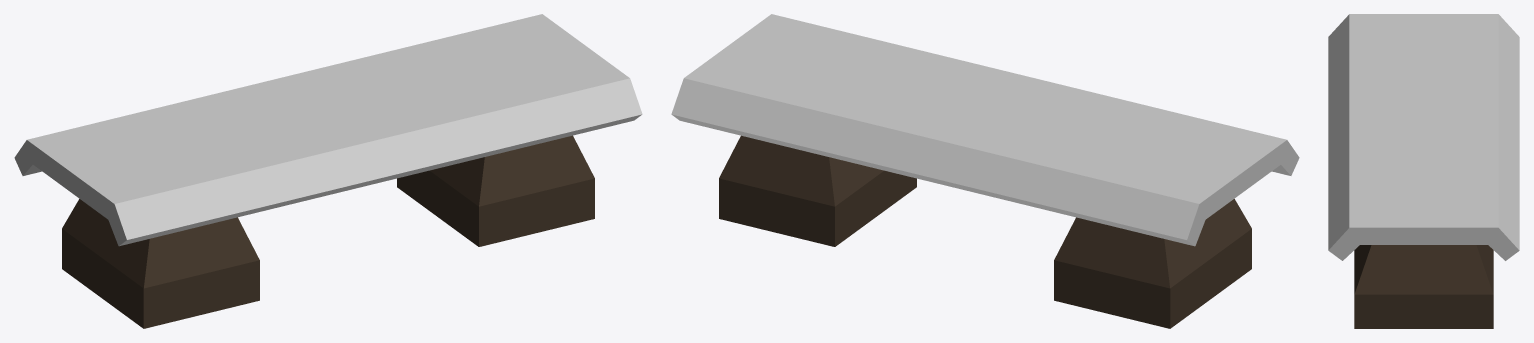
File: BENCH_NW_CITY_02.OBJ
3 renders of one model, left to right at view 1: azimuth 30°, elevation 25°; view 2: azimuth 150°, elevation 25°; view 3: azimuth 270°, elevation 25°, orthographic. The views are drawn at different scales.
Visible parts, largest first — view 1: BENCH_NW_CITY_02; view 2: BENCH_NW_CITY_02; view 3: BENCH_NW_CITY_02.
Part boxes in pixels (x1,y1,x2,y2): BENCH_NW_CITY_02: [14, 14, 642, 328]; BENCH_NW_CITY_02: [671, 14, 1299, 328]; BENCH_NW_CITY_02: [1328, 14, 1519, 328].
Bounding box in the file's own units: 2 × 0.5002 × 0.7565.
